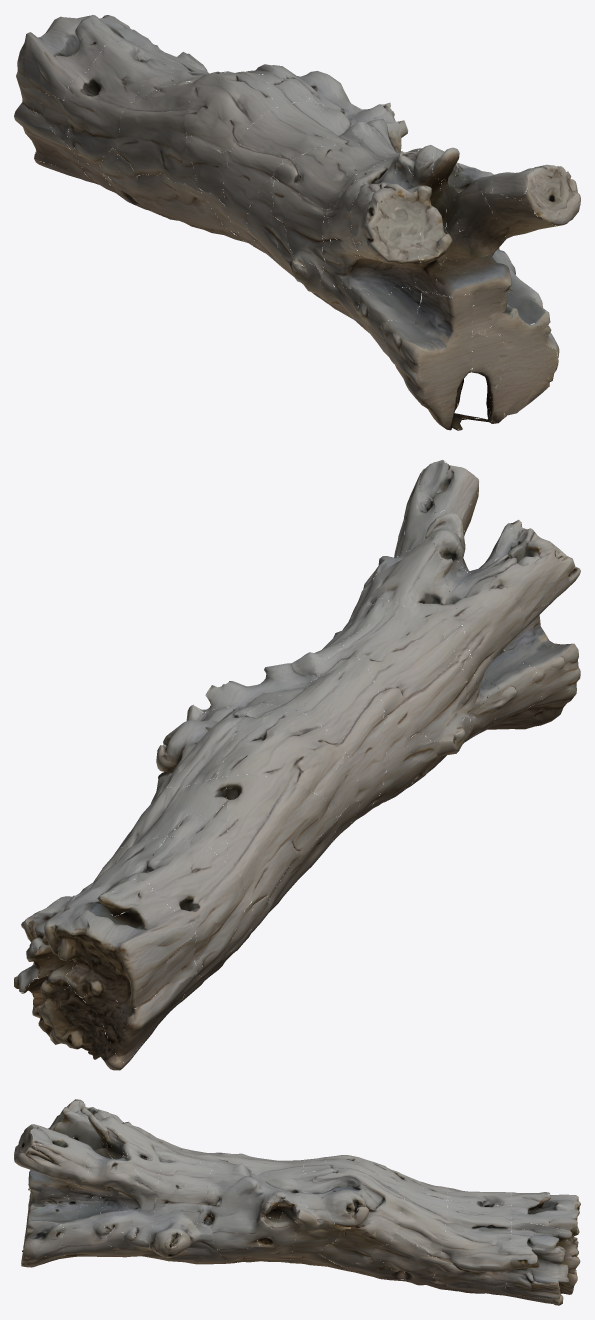
The model's file is driftwood.glb.
3 views of the same model, one above another, from view 1: azimuth 30°, elevation 25°; view 2: azimuth 150°, elevation 25°; view 3: azimuth 270°, elevation 25° (orthographic). The views are drawn at different scales.
Parts seen in each view (by area): view 1: tripo_node_7403b1e1-8b82-4df7-bb52-51b5388e69a2; view 2: tripo_node_7403b1e1-8b82-4df7-bb52-51b5388e69a2; view 3: tripo_node_7403b1e1-8b82-4df7-bb52-51b5388e69a2.
Part boxes in pixels (x1,y1,x2,y2): tripo_node_7403b1e1-8b82-4df7-bb52-51b5388e69a2: (14,15,580,430); tripo_node_7403b1e1-8b82-4df7-bb52-51b5388e69a2: (14,460,580,1070); tripo_node_7403b1e1-8b82-4df7-bb52-51b5388e69a2: (14,1099,580,1305).
Size of the model in its own units: 0.279 by 0.3609 by 0.9999.
Materials: 1 (1 with a texture image).
